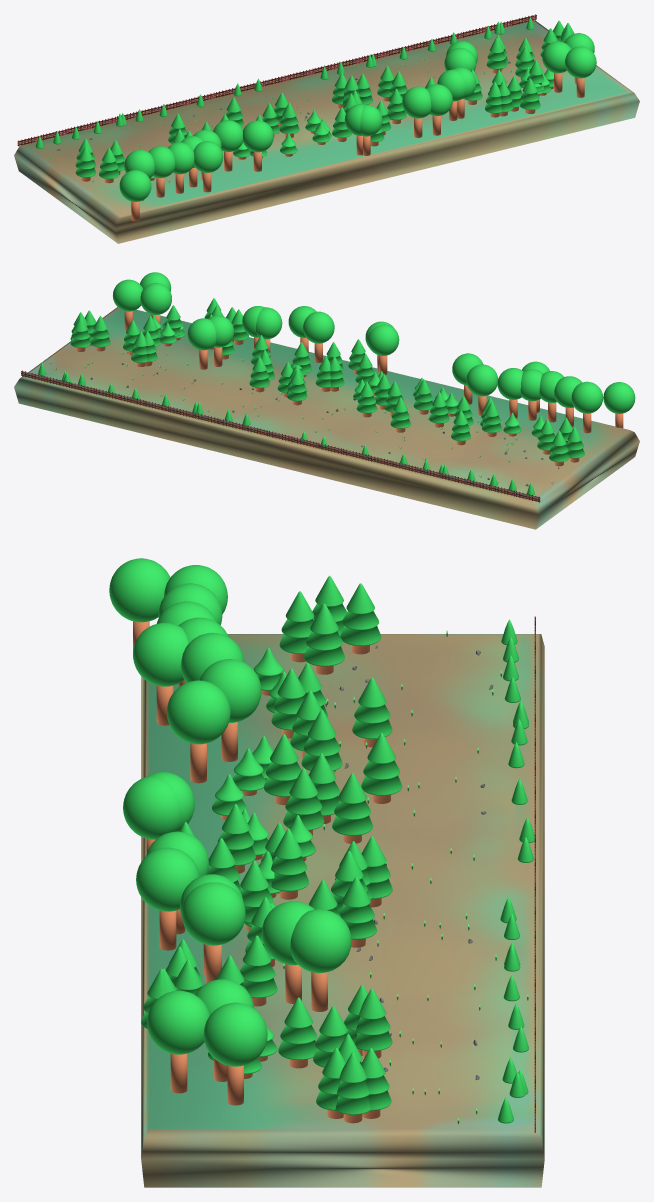
Rendered from second ground.fbx.
3 renders of one model, top to bottom at view 1: azimuth 30°, elevation 25°; view 2: azimuth 150°, elevation 25°; view 3: azimuth 270°, elevation 25°, orthographic. The views are drawn at different scales.
Parts seen in each view (by area): view 1: Plane.002, Plane.002|Cylinder.002|Dupli|2.2, Plane.002|Cylinder.002|Dupli|14.2, Plane.002|Cylinder.002|Dupli|8.2, Plane.002|Cylinder.002|Dupli|7.2, Plane.002|Cylinder.002|Dupli|11.2, Plane.002|Cylinder.002|Dupli|6.2, Plane.002|Cylinder.002|Dupli|13.2, Plane.002|Cylinder.002|Dupli|12.2, Plane.002|Cylinder.002|Dupli|0.2, Plane.002|Cylinder.002|Dupli|3.2, Plane.002|Cylinder.002|Dupli|10.2 (+19 smaller); view 2: Plane.002, Plane.002|Cylinder.002|Dupli|1.2, Plane.002|Cylinder.002|Dupli|11.2, Plane.002|Cylinder.002|Dupli|9.2, Plane.002|Cylinder.002|Dupli|6.2, Plane.002|Cylinder.002|Dupli|2.2, Plane.002|Cylinder.002|Dupli|18.2, Plane.002|Cylinder.002|Dupli|15.2, Plane.002|Cylinder.002|Dupli|13.2, Plane.002|Cylinder.002|Dupli|5.2, Plane.002|Cylinder.002|Dupli|4.2, Plane.002|Cylinder.002|Dupli|16.2 (+23 smaller); view 3: Plane.002, Plane.002|Cylinder.002|Dupli|8.2, Plane.002|Cylinder.002|Dupli|15.2, Plane.002|Cylinder.002|Dupli|14.2, Plane.002|Cylinder.002|Dupli|19.2, Plane.002|Cylinder.002|Dupli|18.2, Plane.002|Cylinder.002|Dupli|12.2, Plane.002|Cylinder.002|Dupli|7.2, Plane.002|Cylinder.002|Dupli|2.2, Plane.002|Cylinder.002|Dupli|10.2, Plane.002|Cylinder.002|Dupli|6.2, Plane.002|Cylinder.002|Dupli|17.2 (+36 smaller).
Part boxes in pixels (x1,y1,x2,y2): Plane.002: (14, 14, 639, 243); Plane.002|Cylinder.002|Dupli|2.2: (119, 170, 151, 221); Plane.002|Cylinder.002|Dupli|14.2: (565, 46, 596, 97); Plane.002|Cylinder.002|Dupli|8.2: (243, 120, 273, 171); Plane.002|Cylinder.002|Dupli|7.2: (193, 141, 223, 192); Plane.002|Cylinder.002|Dupli|11.2: (402, 86, 431, 137); Plane.002|Cylinder.002|Dupli|6.2: (213, 120, 242, 171); Plane.002|Cylinder.002|Dupli|13.2: (542, 41, 571, 92); Plane.002|Cylinder.002|Dupli|12.2: (426, 84, 452, 135); Plane.002|Cylinder.002|Dupli|0.2: (148, 146, 175, 197); Plane.002|Cylinder.002|Dupli|3.2: (168, 142, 194, 193); Plane.002|Cylinder.002|Dupli|10.2: (360, 104, 382, 155); Plane.002: (14, 307, 639, 529); Plane.002|Cylinder.002|Dupli|1.2: (571, 381, 603, 433); Plane.002|Cylinder.002|Dupli|11.2: (303, 311, 334, 362); Plane.002|Cylinder.002|Dupli|9.2: (367, 324, 399, 374); Plane.002|Cylinder.002|Dupli|6.2: (466, 364, 498, 415); Plane.002|Cylinder.002|Dupli|2.2: (603, 382, 635, 428); Plane.002|Cylinder.002|Dupli|18.2: (187, 318, 216, 369); Plane.002|Cylinder.002|Dupli|15.2: (113, 279, 143, 330); Plane.002|Cylinder.002|Dupli|13.2: (140, 283, 171, 323); Plane.002|Cylinder.002|Dupli|5.2: (497, 368, 523, 418); Plane.002|Cylinder.002|Dupli|4.2: (520, 369, 543, 420); Plane.002|Cylinder.002|Dupli|16.2: (256, 307, 282, 357); Plane.002: (141, 616, 544, 1187); Plane.002|Cylinder.002|Dupli|8.2: (166, 680, 230, 783); Plane.002|Cylinder.002|Dupli|15.2: (203, 1002, 267, 1105); Plane.002|Cylinder.002|Dupli|14.2: (147, 990, 209, 1093); Plane.002|Cylinder.002|Dupli|19.2: (181, 882, 245, 982); Plane.002|Cylinder.002|Dupli|18.2: (290, 909, 351, 1011); Plane.002|Cylinder.002|Dupli|12.2: (136, 847, 199, 950); Plane.002|Cylinder.002|Dupli|7.2: (133, 622, 188, 725); Plane.002|Cylinder.002|Dupli|2.2: (109, 558, 170, 658); Plane.002|Cylinder.002|Dupli|10.2: (123, 776, 182, 853); Plane.002|Cylinder.002|Dupli|6.2: (200, 659, 261, 761); Plane.002|Cylinder.002|Dupli|17.2: (261, 901, 314, 1003).
Size of what is drawn, in the model's own units: 8264 by 1123 by 2968.
